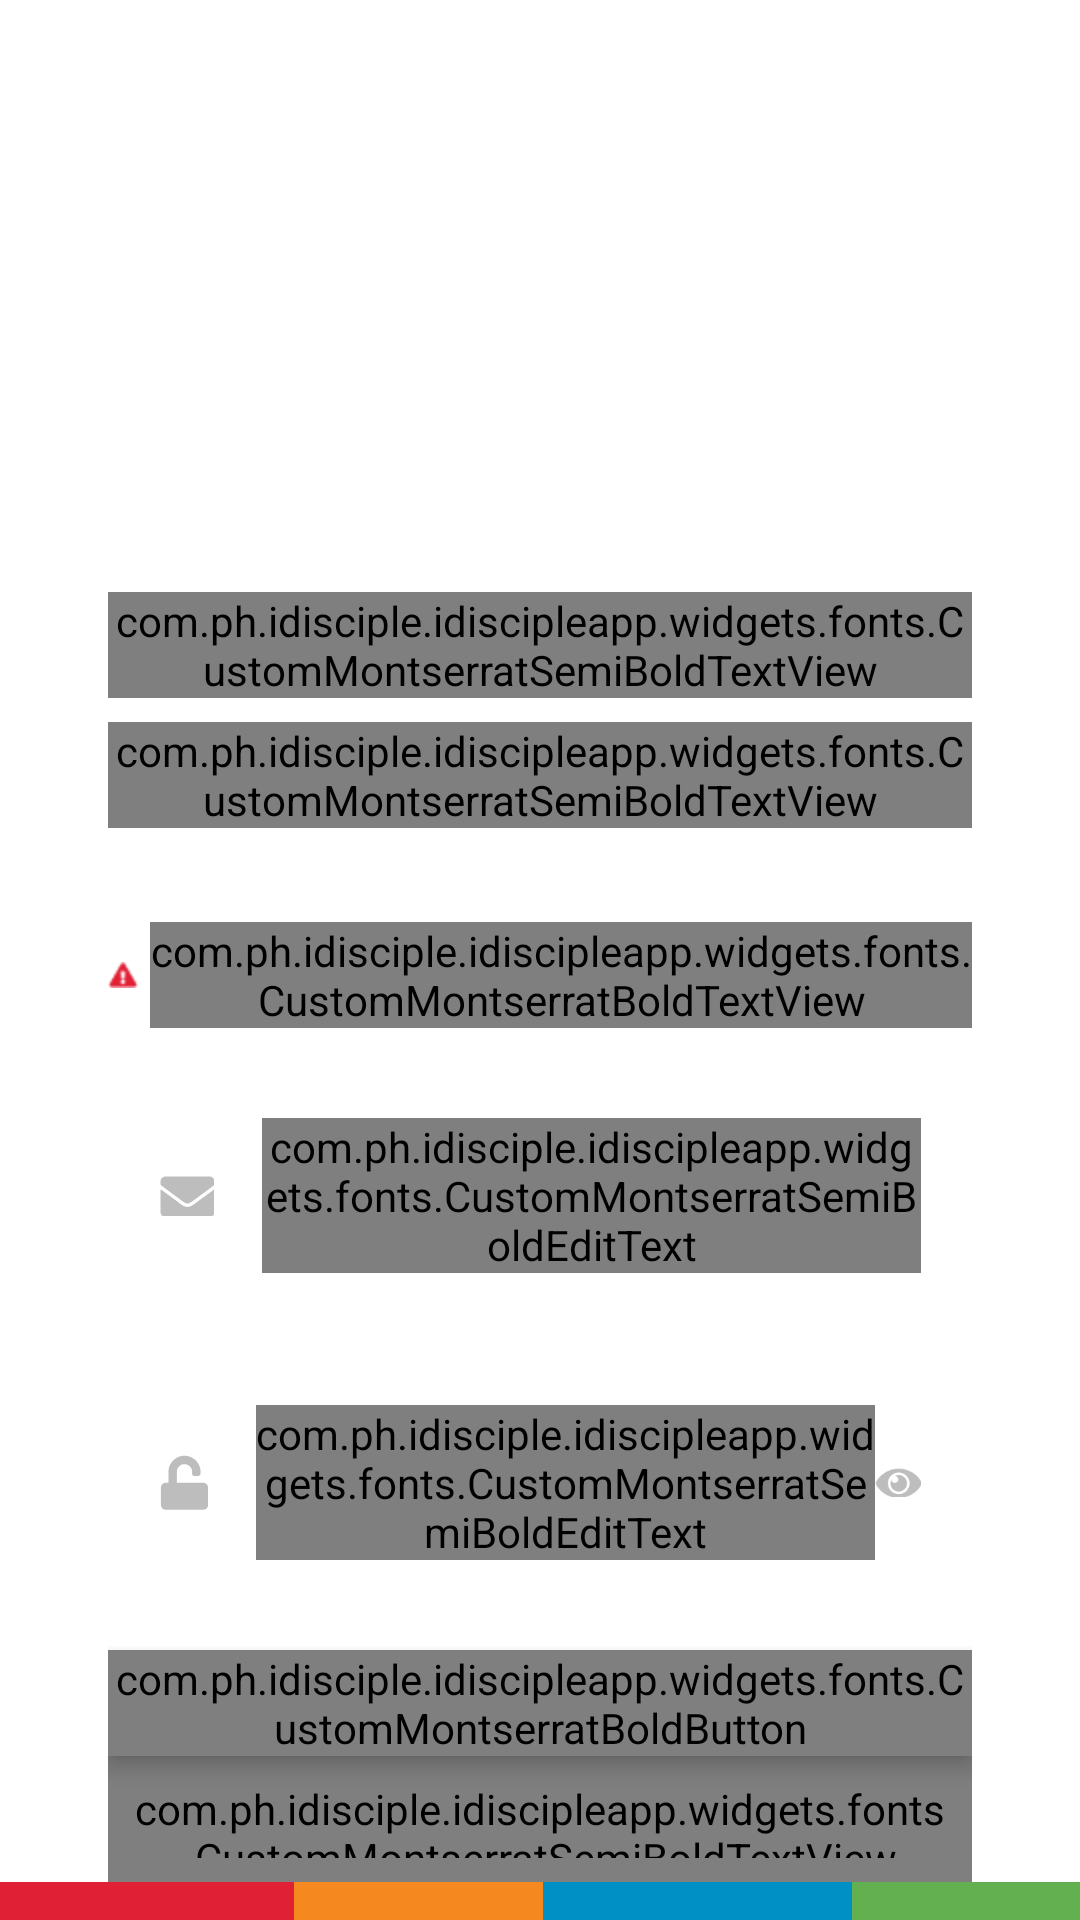

Icon bounding boxes for this 1080px x 1920px phone screenshot, format BBox(x1, y1, x2, y2):
exclamation: BBox(108, 962, 138, 988)
